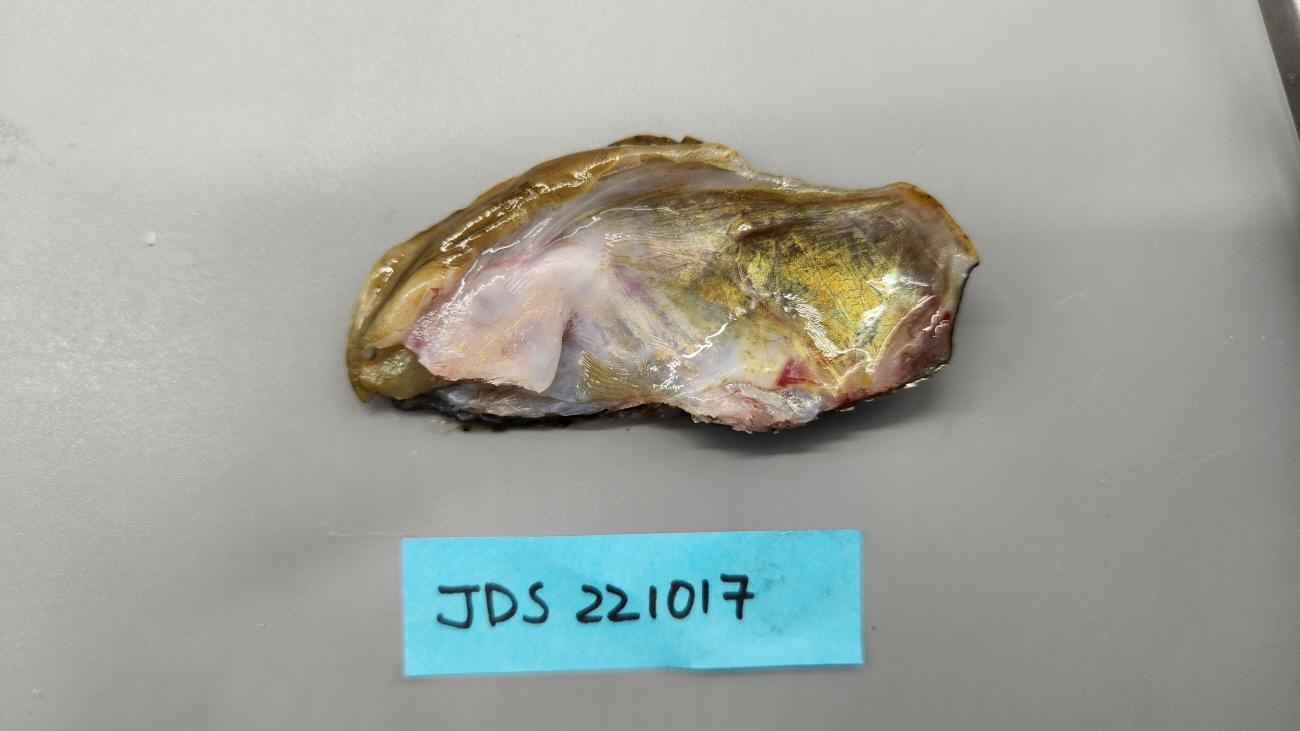POGCN: (345, 135, 978, 433)
